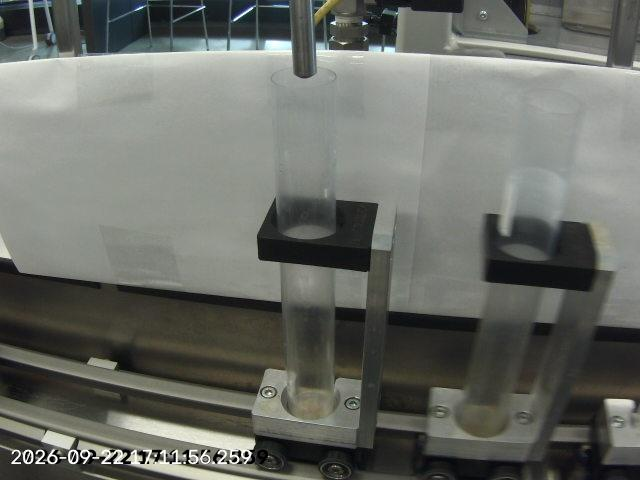vial: (453, 84, 586, 436), (269, 66, 337, 417)
